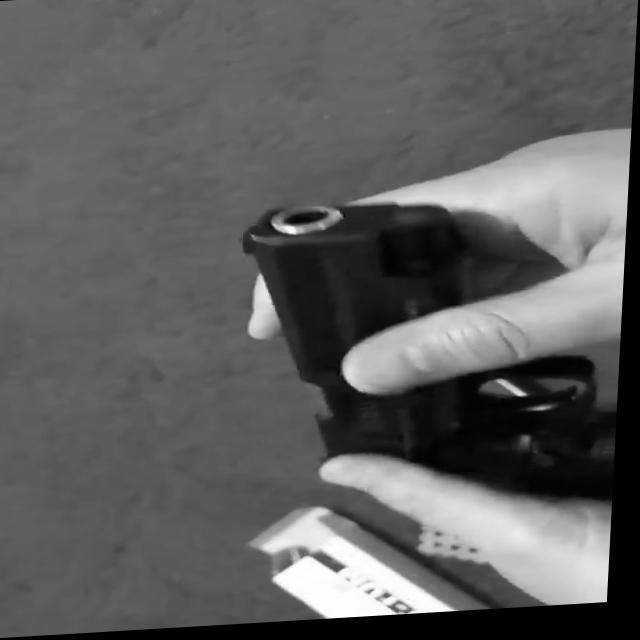handgun: (215, 187, 617, 521)
